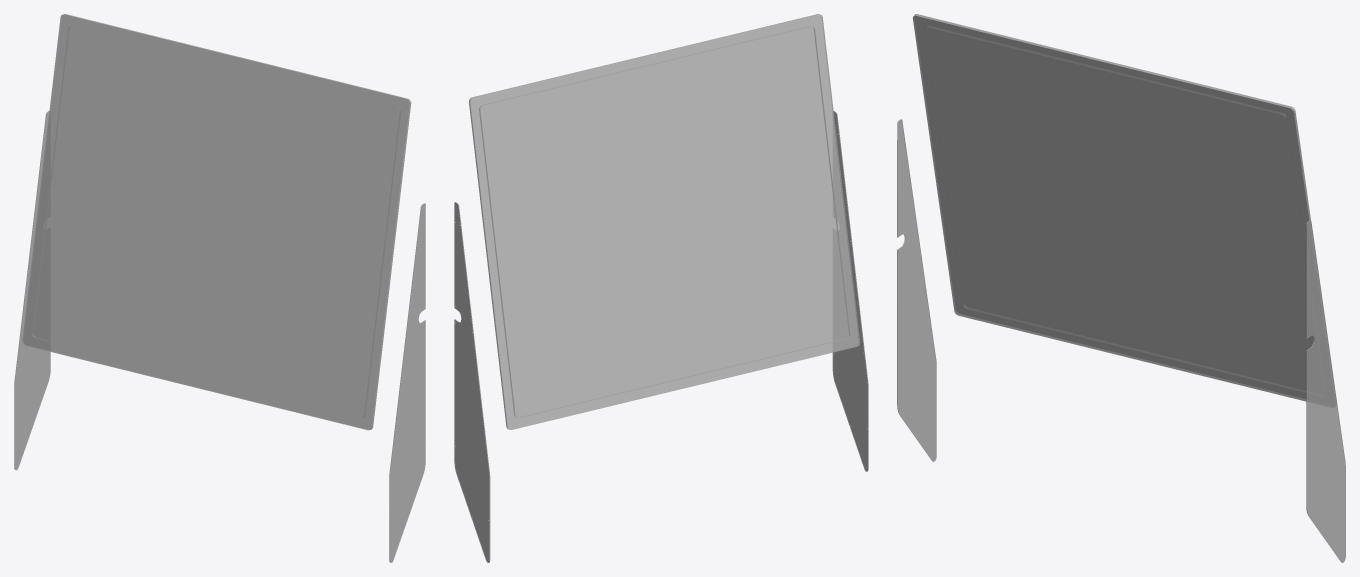
File: amr51.glb
3 views of the same model, side by side, from view 1: azimuth 90°, elevation 25°; view 2: azimuth 150°, elevation 25°; view 3: azimuth 270°, elevation 25° (orthographic). The views are drawn at different scales.
Parts seen in each view (by area): view 1: Glass_1; view 2: Glass_1; view 3: Glass_1.
Boxes of the visible parts, x1,y1,x2,y2 form: Glass_1: [14, 14, 425, 562]; Glass_1: [454, 14, 868, 562]; Glass_1: [897, 14, 1345, 562].
Size of the model in its own units: 22487 by 38471 by 32829.
Materials: 31 (5 with a texture image).
